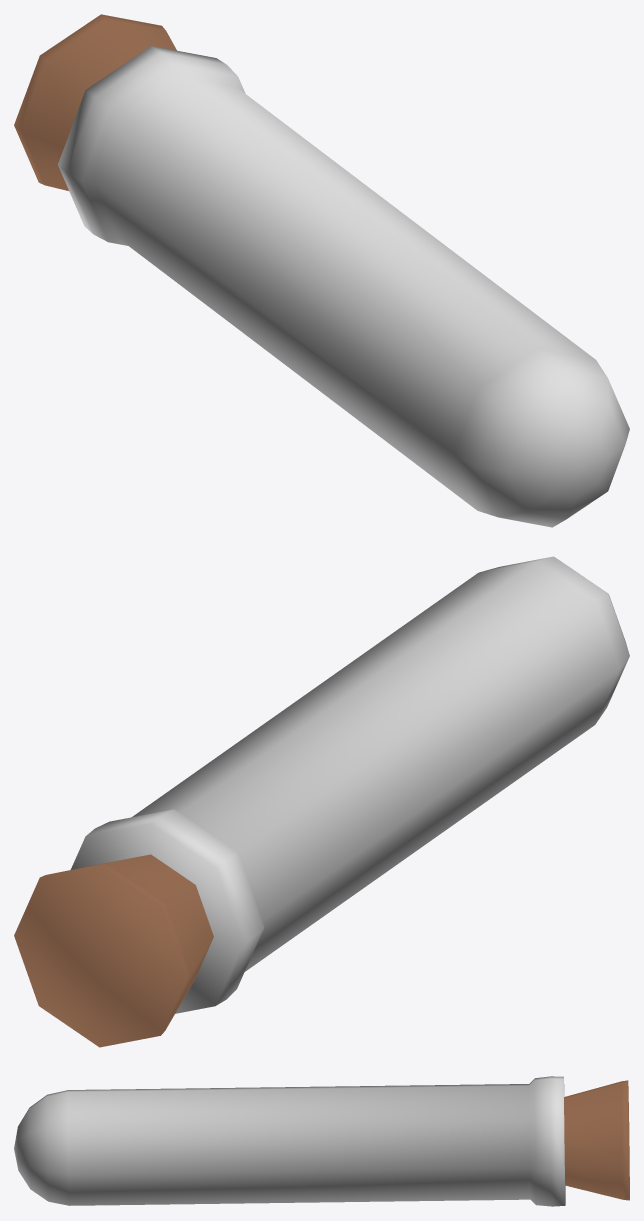
The model's file is potion.glb.
The picture shows the model from 3 angles, top to bottom: view 1: azimuth 30°, elevation 25°; view 2: azimuth 150°, elevation 25°; view 3: azimuth 270°, elevation 25°; orthographic projection. The views are drawn at different scales.
Visible parts, largest first — view 1: Sphere.001; view 2: Sphere.001; view 3: Sphere.001.
Boxes of the visible parts, bbox=[...] form: Sphere.001: bbox=[14, 14, 629, 527]; Sphere.001: bbox=[14, 556, 629, 1047]; Sphere.001: bbox=[14, 1076, 629, 1206].
Bounding box in the file's own units: 0.1638 × 0.1638 × 0.728.
2 materials, 1 textured.
